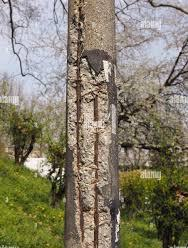Exposed reinforcement: (75, 1, 85, 243), (93, 132, 99, 248), (93, 94, 99, 122)
Spalling: (66, 1, 119, 248)
